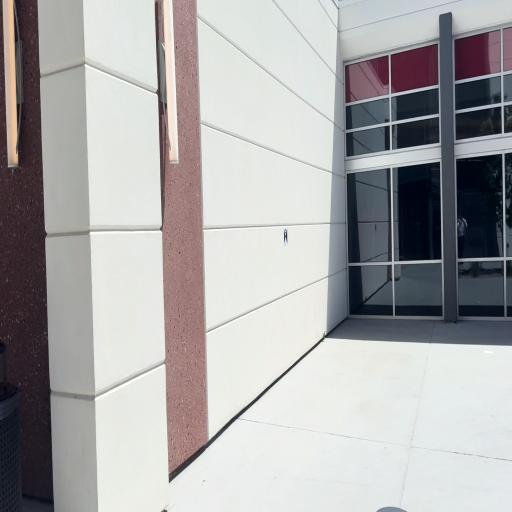target0: (284, 227, 287, 246)
